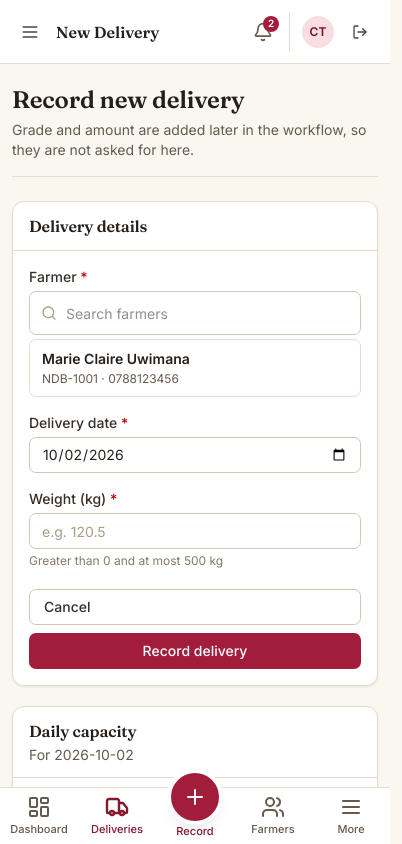
Test: recording a delivery › submits only farmer, date and weight, then opens the new delivery
Click the button "Marie Claire Uwimana NDB-1001 · 0788123456" at (116, 358), box x1=30 y1=340 x2=360 y2=396
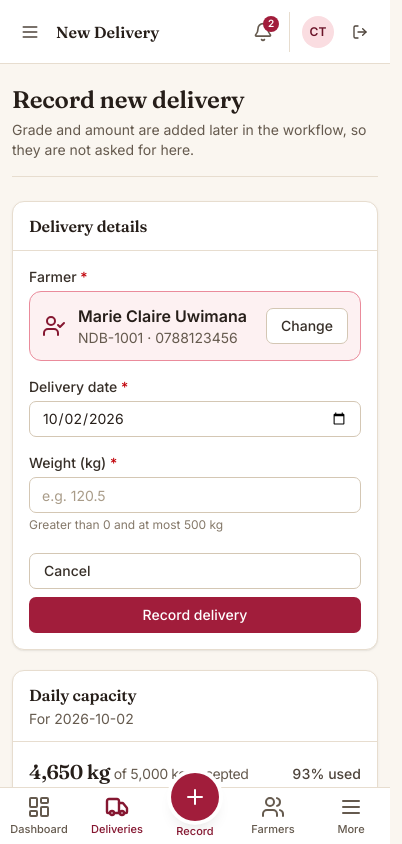
Type "120.5" into the number field labelled "Weight (kg) *" at (195, 495), box x1=29 y1=477 x2=361 y2=513
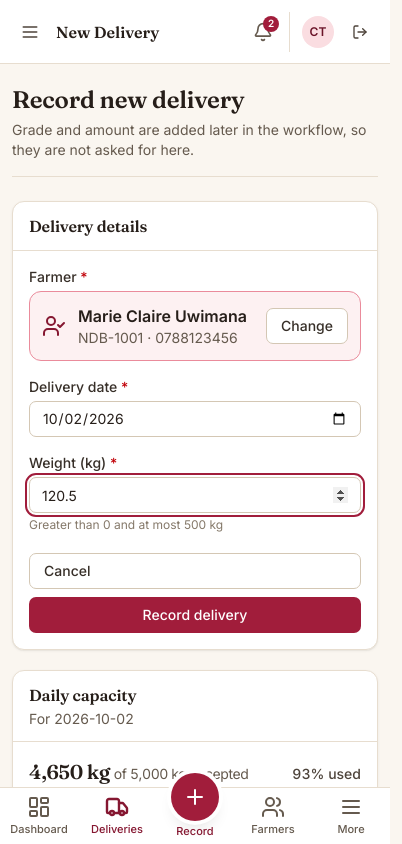
Click the button "Record delivery" at (195, 615), box x1=29 y1=597 x2=361 y2=633
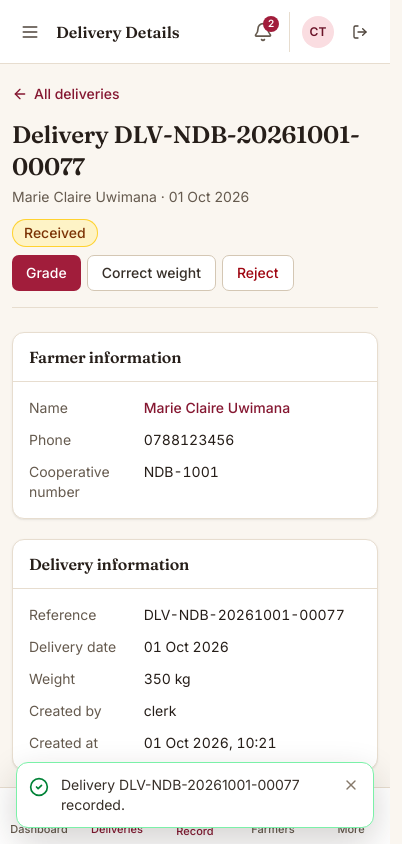
Result: the heading "Delivery DLV-NDB-20261001-00077" is shown at x1=12 y1=119 x2=378 y2=183
